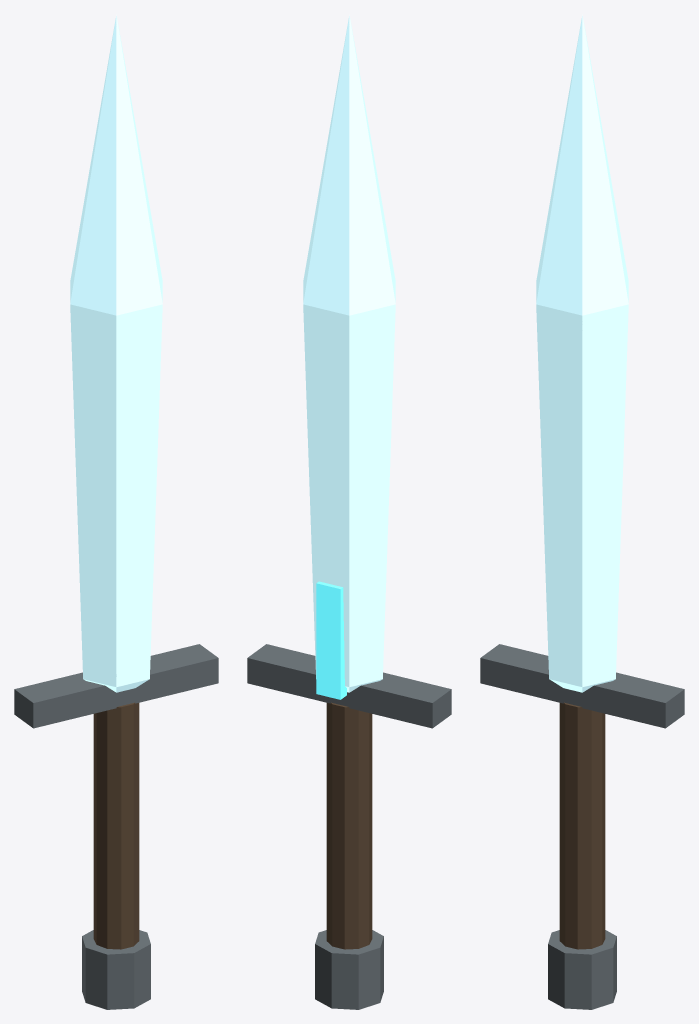
Rendered from crystal-weapon-sword.glb.
The picture shows the model from 3 angles, left to right: view 1: azimuth 30°, elevation 25°; view 2: azimuth 150°, elevation 25°; view 3: azimuth 330°, elevation 25°; orthographic projection.
Parts seen in each view (by area): view 1: blade, grip, guard, pommel; view 2: blade, grip, guard, pommel, rainbow-inlay; view 3: blade, grip, guard, pommel.
Part boxes in pixels (x1=…): blade: x1=70, y1=14, x2=162, y2=692; grip: x1=93, y1=702, x2=139, y2=949; guard: x1=14, y1=644, x2=218, y2=728; pommel: x1=82, y1=930, x2=150, y2=1009; blade: x1=303, y1=14, x2=395, y2=692; grip: x1=326, y1=702, x2=372, y2=949; guard: x1=247, y1=644, x2=451, y2=728; pommel: x1=315, y1=930, x2=383, y2=1009; rainbow-inlay: x1=316, y1=581, x2=346, y2=699; blade: x1=536, y1=14, x2=628, y2=692; grip: x1=559, y1=702, x2=605, y2=949; guard: x1=480, y1=644, x2=684, y2=728; pommel: x1=548, y1=930, x2=616, y2=1009.
Size of the model in its own units: 0.42 by 2.13 by 0.1819.
